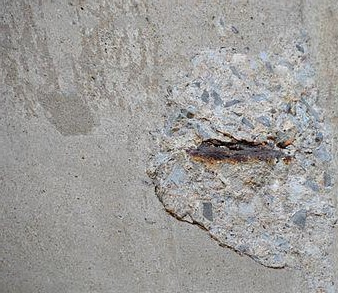Exposed reinforcement: (184, 138, 295, 166)
Spalling: (148, 29, 338, 293)
